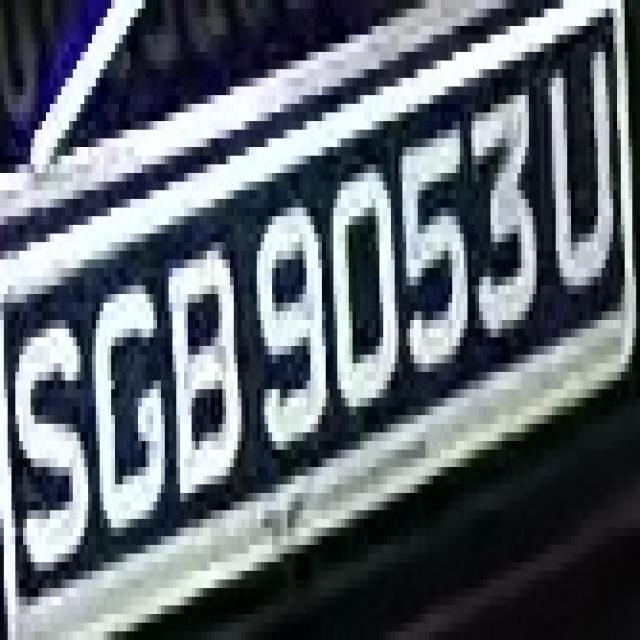0: (314, 138, 402, 424)
3: (460, 69, 536, 355)
5: (391, 121, 475, 381)
9: (253, 164, 333, 458)
B: (161, 225, 245, 519)
G: (84, 225, 172, 553)
S: (12, 268, 84, 606)
U: (544, 17, 621, 294)
